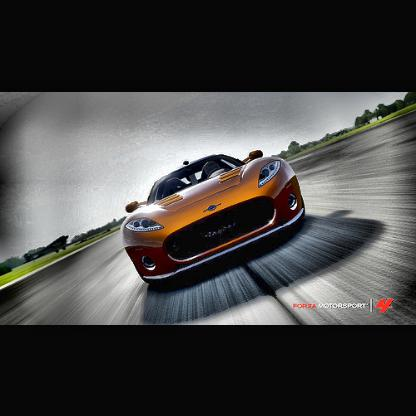Spyker C8 Coupe 2009: (119, 152, 306, 287)
